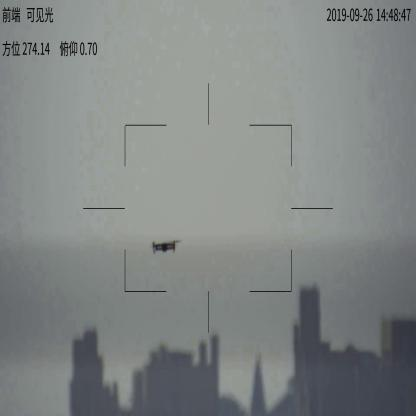uav: (148, 240, 182, 254)
